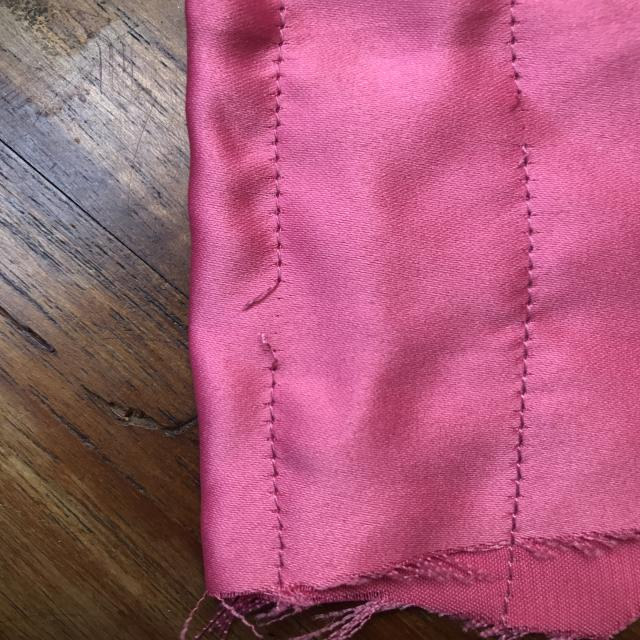broken: (232, 258, 315, 386)
